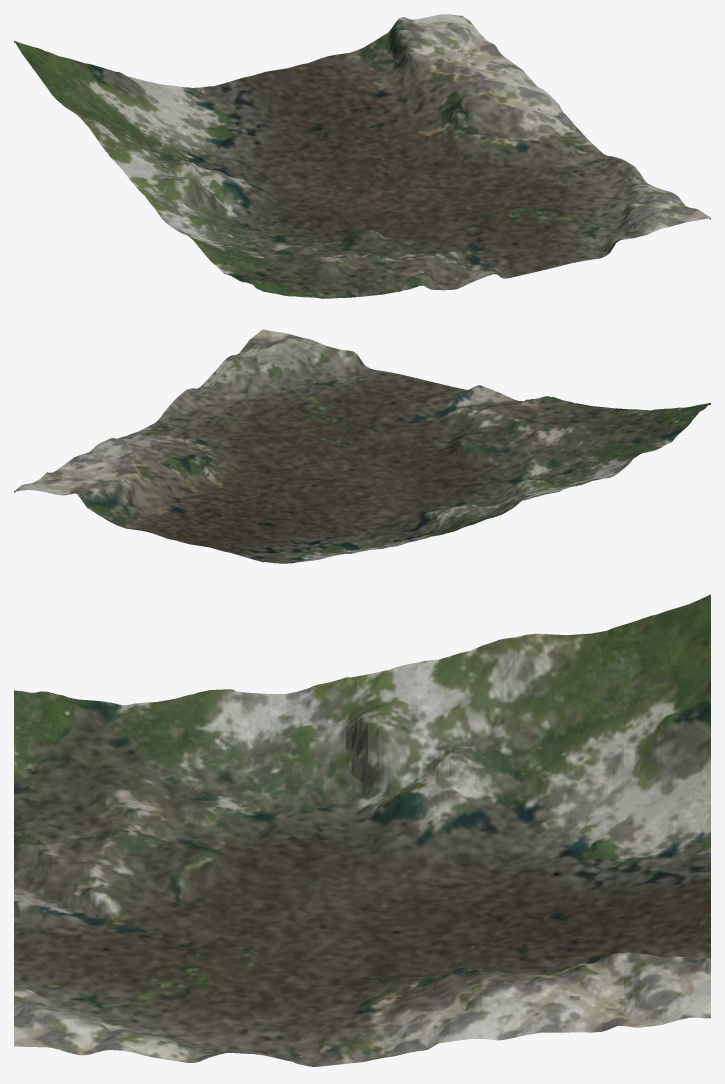
The picture shows the model from 3 angles, top to bottom: view 1: azimuth 30°, elevation 25°; view 2: azimuth 150°, elevation 25°; view 3: azimuth 270°, elevation 25°; orthographic projection. The views are drawn at different scales.
Size of the model in its own units: 250 by 64.5 by 241.
Materials: 1 (1 with a texture image).
